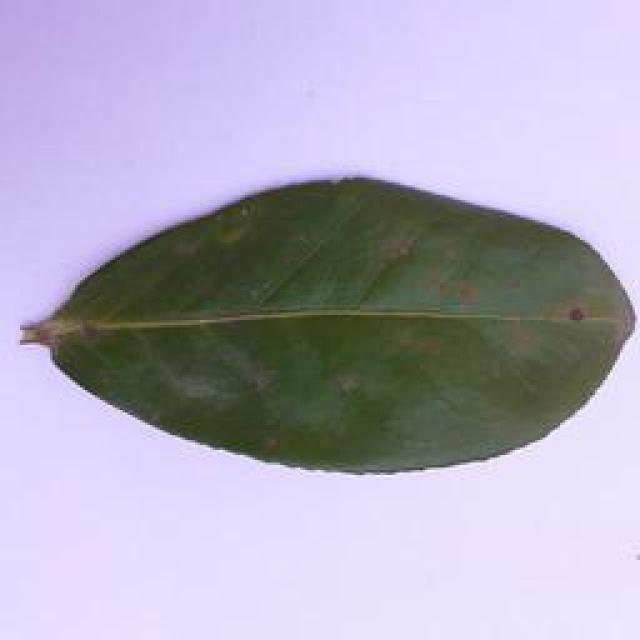Algal Leaf Spot: (6, 163, 635, 488)
